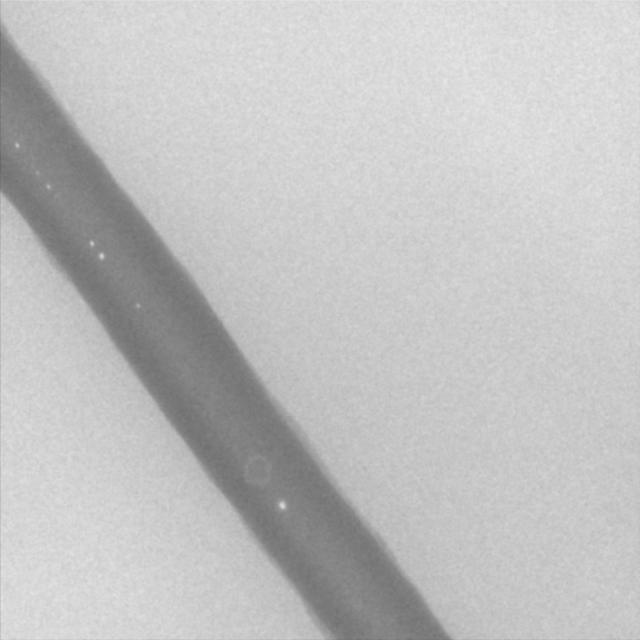air hole: (277, 497, 288, 513), (97, 251, 106, 261), (44, 181, 52, 192), (12, 140, 20, 149), (134, 300, 141, 310), (87, 238, 94, 247)
hollow bead: (241, 454, 273, 489)
